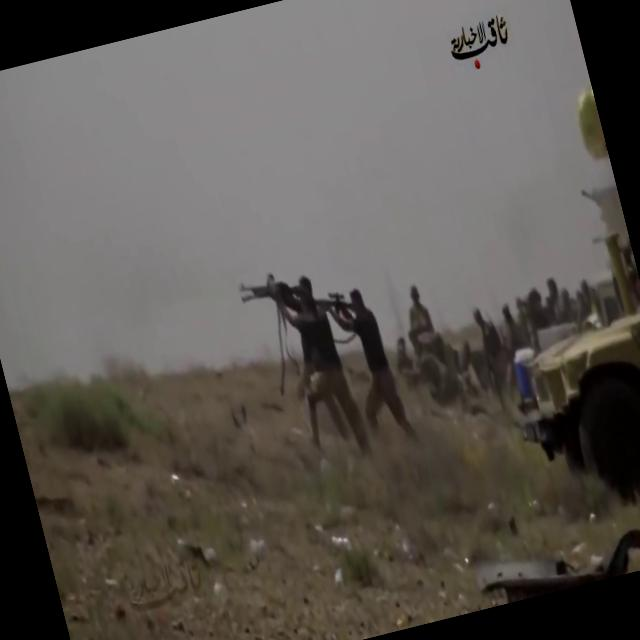long weapon: (232, 271, 302, 324)
